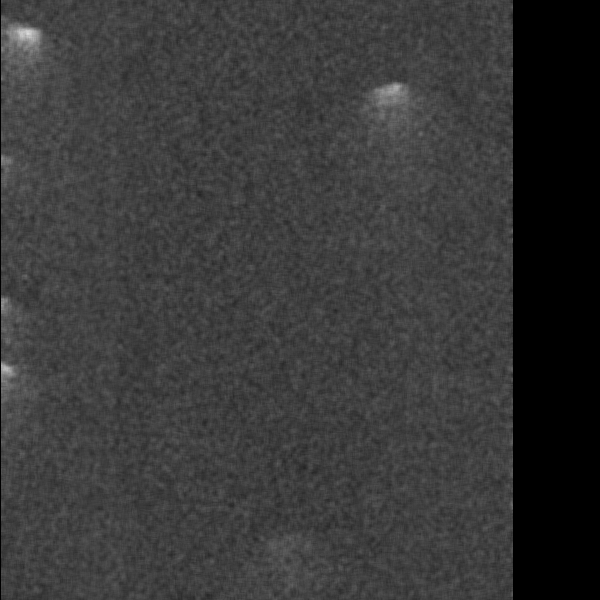spark: (1, 20, 46, 87), (379, 75, 409, 148), (259, 531, 300, 580), (500, 359, 519, 374)
